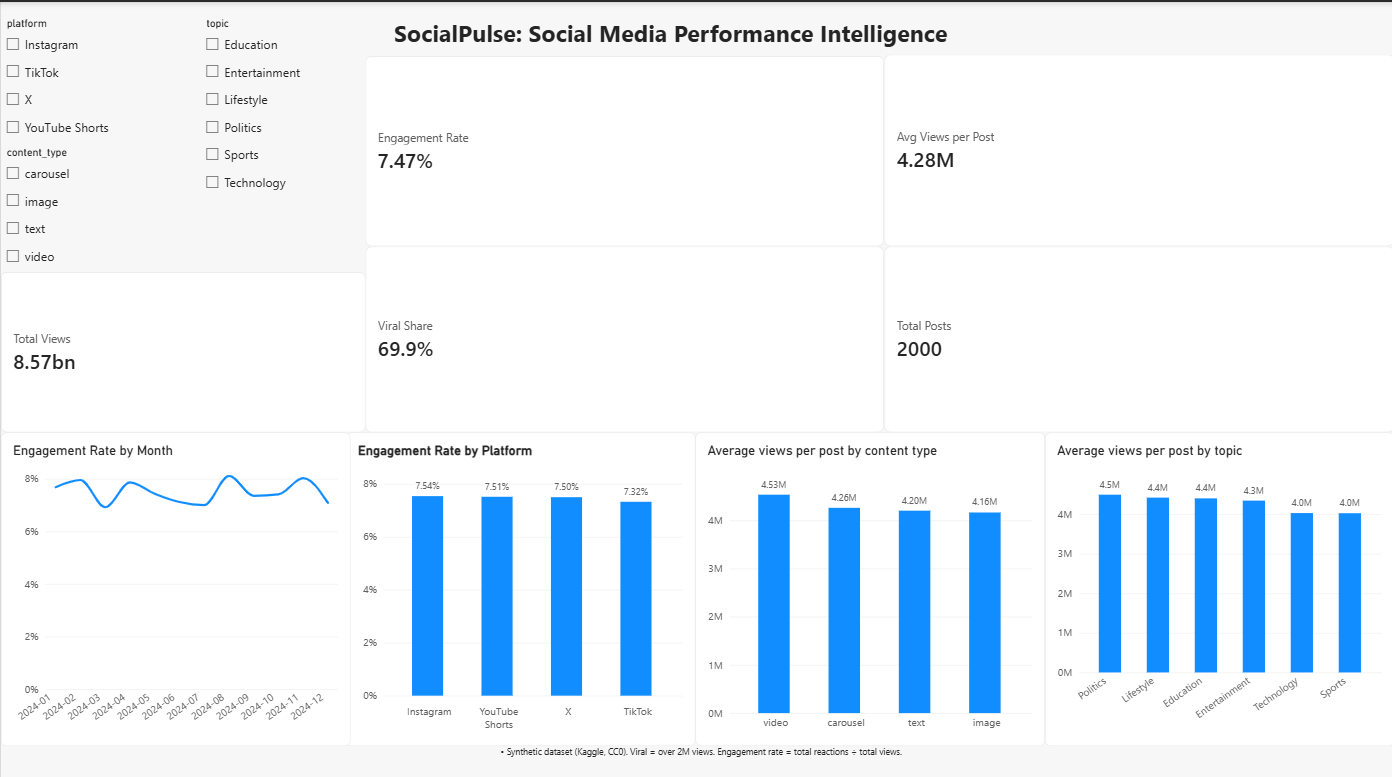

Layout of this report page (visuals, bound fields, positions):
{"tool":"powerbi","page":{"name":"Overview","canvas":[1920,1080],"ordinal":0},"visuals":[{"type":"cardVisual","fields":{"Data":["posts_clean.Total Posts"]},"box":[1217.1,336.8,702.6,256.2],"z":0},{"type":"cardVisual","fields":{"Data":["posts_clean.Total Views"]},"box":[0,371.9,502.1,221.1],"z":1},{"type":"cardVisual","fields":{"Data":["posts_clean.Engagement Rate"]},"box":[502.1,74.4,715,262.4],"z":2},{"type":"cardVisual","fields":{"Data":["posts_clean.Avg Views per Post"]},"box":[1217.1,72.3,702.6,264.5],"z":3},{"type":"cardVisual","fields":{"Data":["posts_clean.Viral Share"]},"box":[502.1,336.8,715,256.2],"z":4},{"type":"clusteredColumnChart","title":"Engagement Rate by Platform","fields":{"Category":["posts_clean.platform"],"Y":["posts_clean.Engagement Rate"]},"box":[475.3,593,481.5,431.9],"z":5},{"type":"lineChart","title":"Engagement Rate by Month","fields":{"Category":["posts_clean.Month"],"Y":["posts_clean.Engagement Rate"]},"box":[0,593,481.5,431.9],"z":6},{"type":"clusteredColumnChart","title":"Average views per post by content type","fields":{"Category":["posts_clean.content_type"],"Y":["posts_clean.Avg Views per Post"]},"box":[956.7,593,481.5,431.9],"z":7},{"type":"clusteredColumnChart","title":"Average views per post by topic","fields":{"Category":["posts_clean.topic"],"Y":["posts_clean.Avg Views per Post"]},"box":[1438.2,593,481.5,431.9],"z":8},{"type":"slicer","fields":{"Values":["posts_clean.platform"]},"box":[0,20.7,274.8,177.7],"z":9},{"type":"slicer","fields":{"Values":["posts_clean.content_type"]},"box":[0,198.4,239.7,173.6],"z":10},{"type":"slicer","fields":{"Values":["posts_clean.topic"]},"box":[274.8,20.7,264.5,316.2],"z":11},{"type":"textbox","box":[502.1,20.7,841,105.4],"z":12},{"type":"textbox","box":[0,1024.9,1919.7,55.8],"z":13}]}

Visuals, with their boxes in screenshot pixels (x1, y1, x2, y2), scaled from the page's 1920x1080 canvas onto the 1392x777 screenshot:
cardVisual - posts_clean.Total Posts: (882, 242, 1391, 427)
cardVisual - posts_clean.Total Views: (0, 268, 364, 427)
cardVisual - posts_clean.Engagement Rate: (364, 54, 882, 242)
cardVisual - posts_clean.Avg Views per Post: (882, 52, 1391, 242)
cardVisual - posts_clean.Viral Share: (364, 242, 882, 427)
"Engagement Rate by Platform" clusteredColumnChart: (345, 427, 694, 737)
"Engagement Rate by Month" lineChart: (0, 427, 349, 737)
"Average views per post by content type" clusteredColumnChart: (694, 427, 1043, 737)
"Average views per post by topic" clusteredColumnChart: (1043, 427, 1391, 737)
slicer - posts_clean.platform: (0, 15, 199, 143)
slicer - posts_clean.content_type: (0, 143, 174, 268)
slicer - posts_clean.topic: (199, 15, 391, 242)
textbox: (364, 15, 974, 91)
textbox: (0, 737, 1391, 776)
